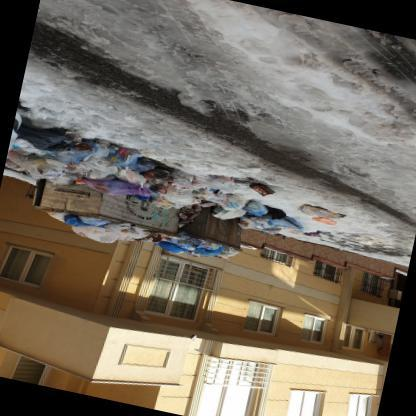Garbage: (3, 108, 286, 228), (41, 209, 153, 252), (10, 119, 90, 161), (153, 231, 236, 264), (280, 193, 344, 234), (69, 173, 150, 200), (160, 172, 208, 208), (100, 140, 146, 176), (261, 208, 304, 235), (223, 188, 252, 216), (246, 178, 271, 198)
